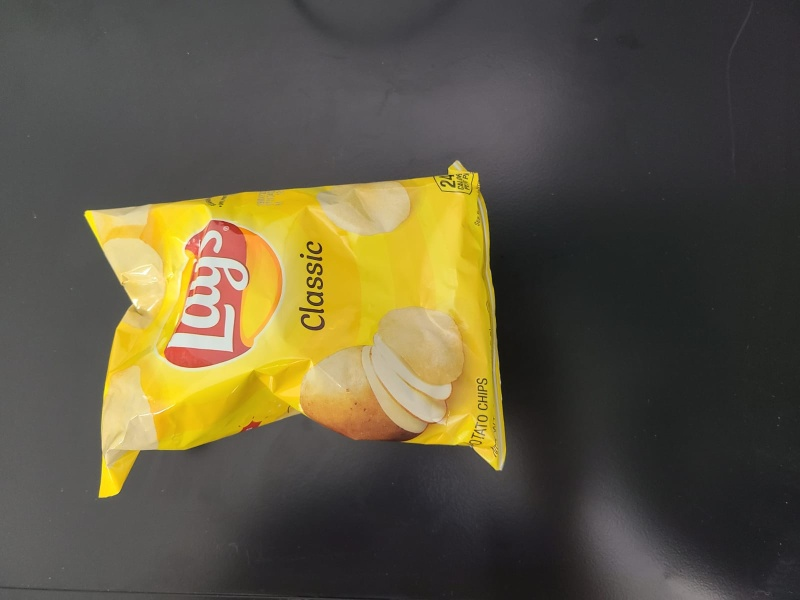lays: (77, 158, 509, 500)
